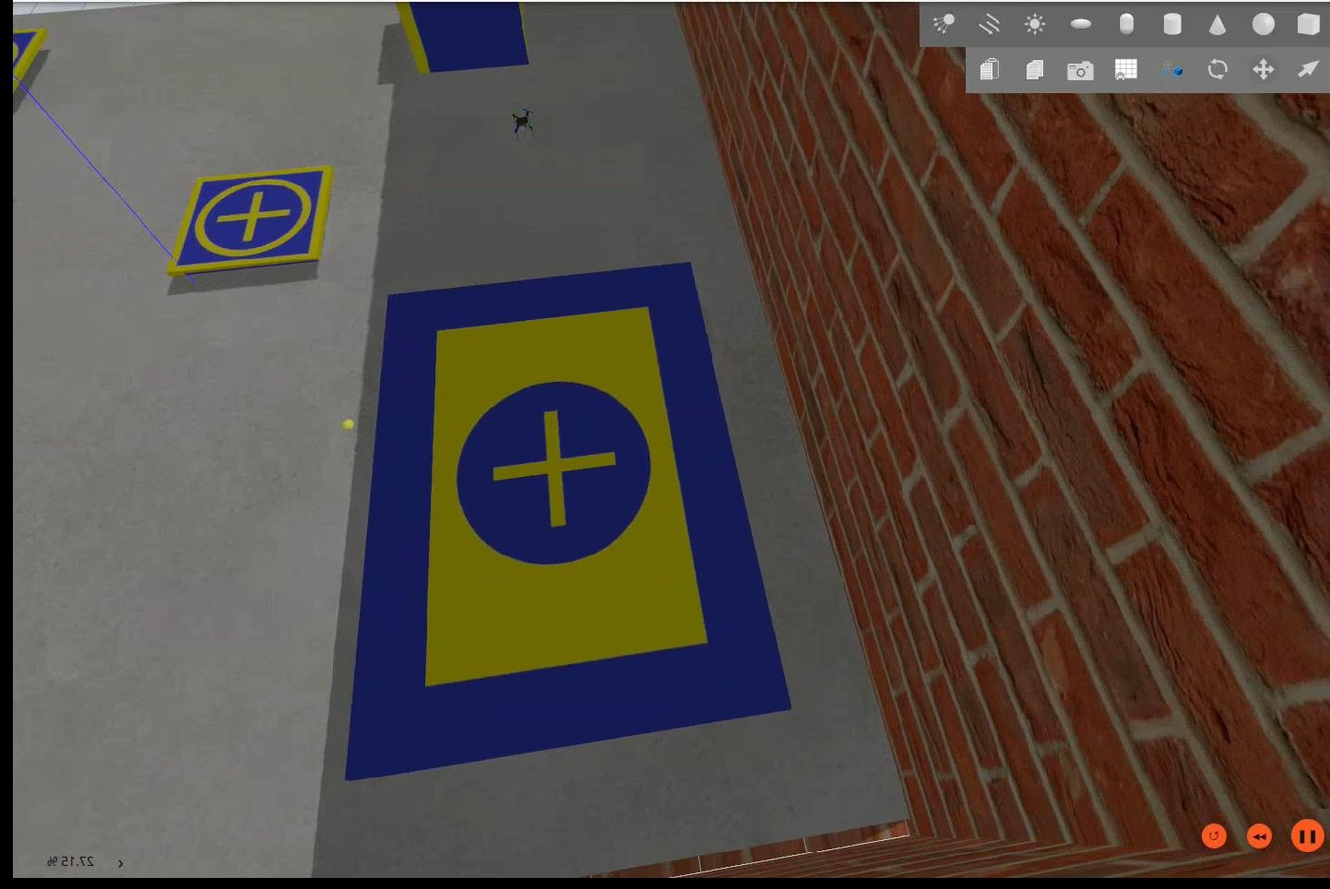large_base: (341, 258, 789, 784)
small_base: (161, 160, 329, 277)
